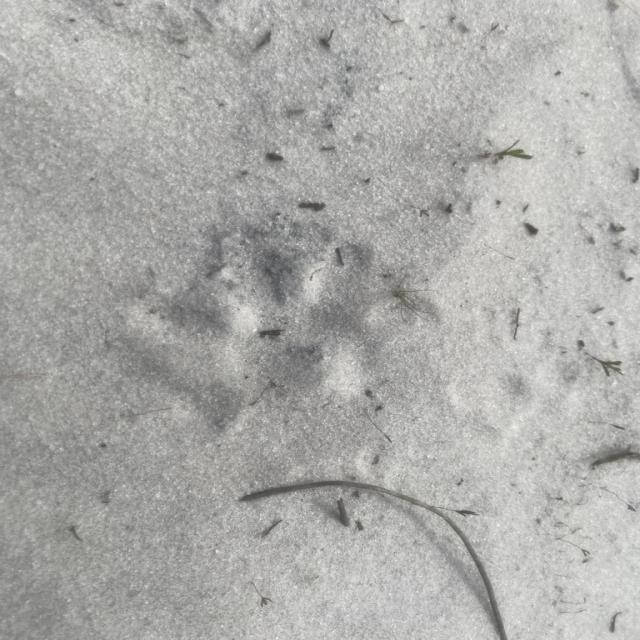felid: (172, 248, 392, 397)
